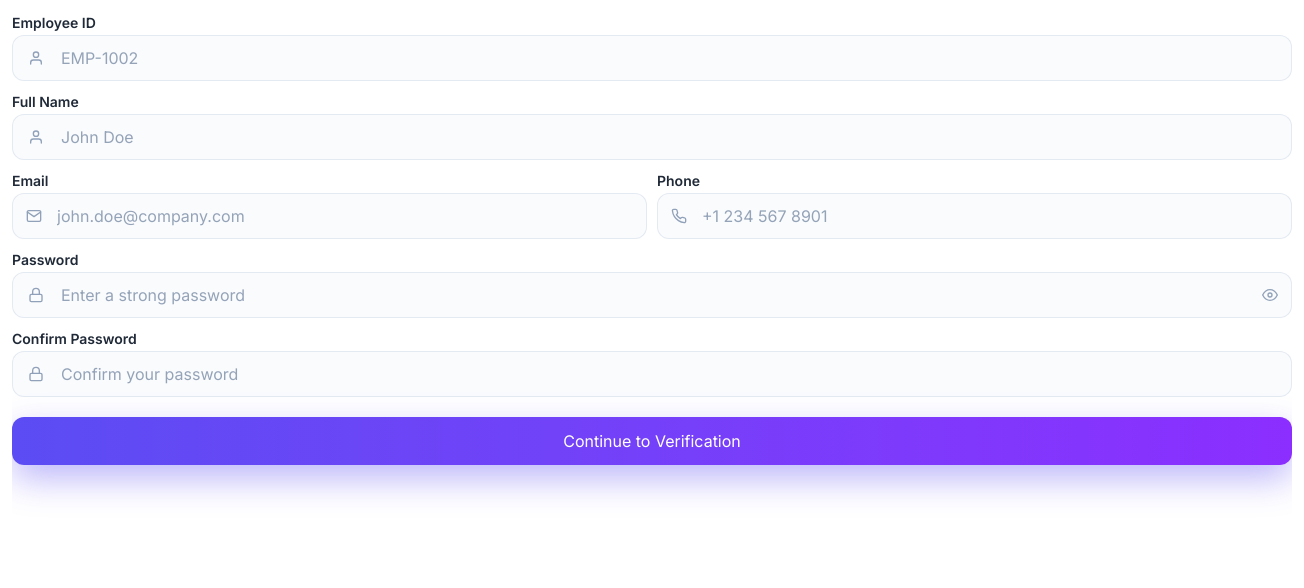
it: RegisterForm › shows error for name shorter than 2 characters
Type "EMP001" into the field labelled "Employee ID". click: (652, 58)
box: [12,35,1292,81]
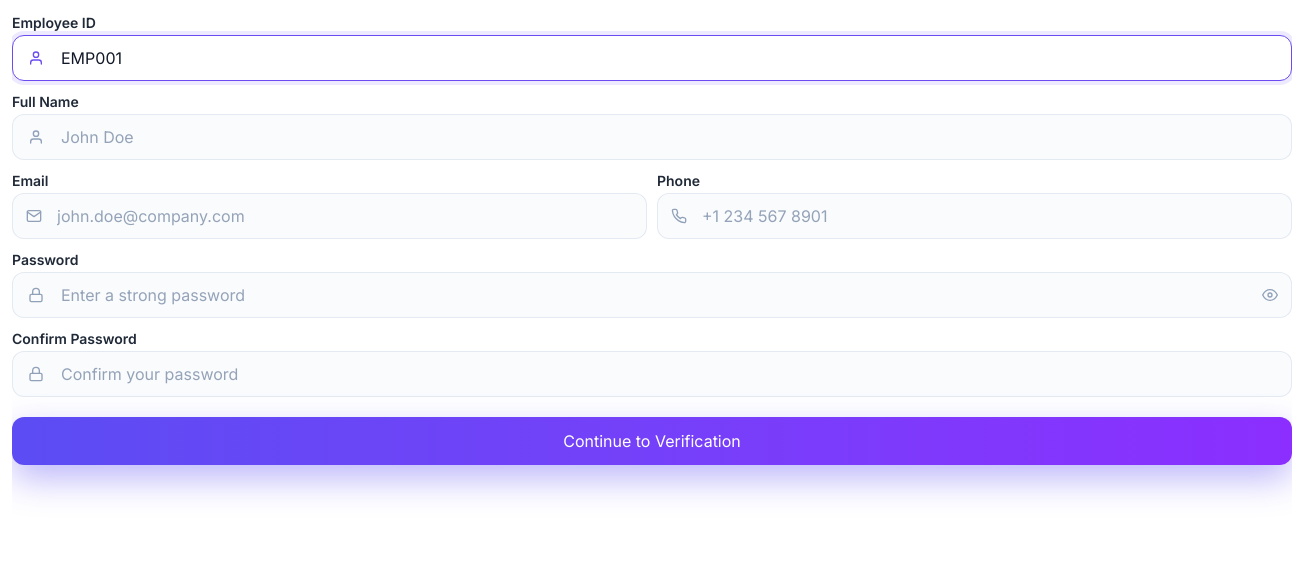
Type "A" into the field labelled "Full Name". click: (652, 137)
box: [12,114,1292,160]
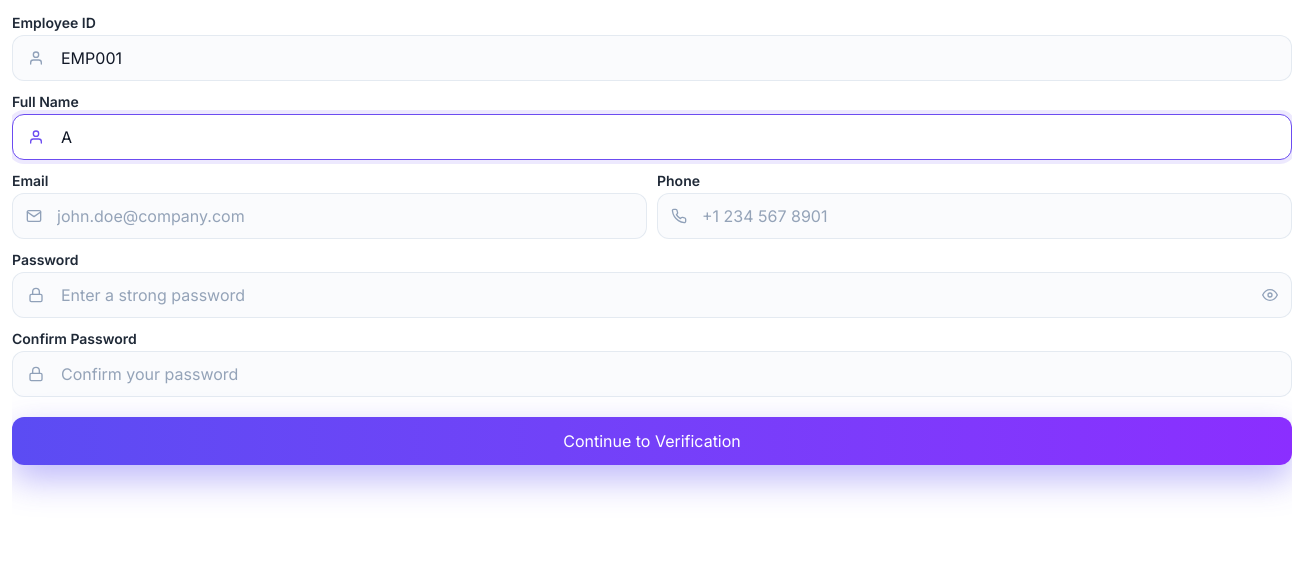
Click the button "Continue to Verification". click: (652, 441)
box: [12,417,1292,465]
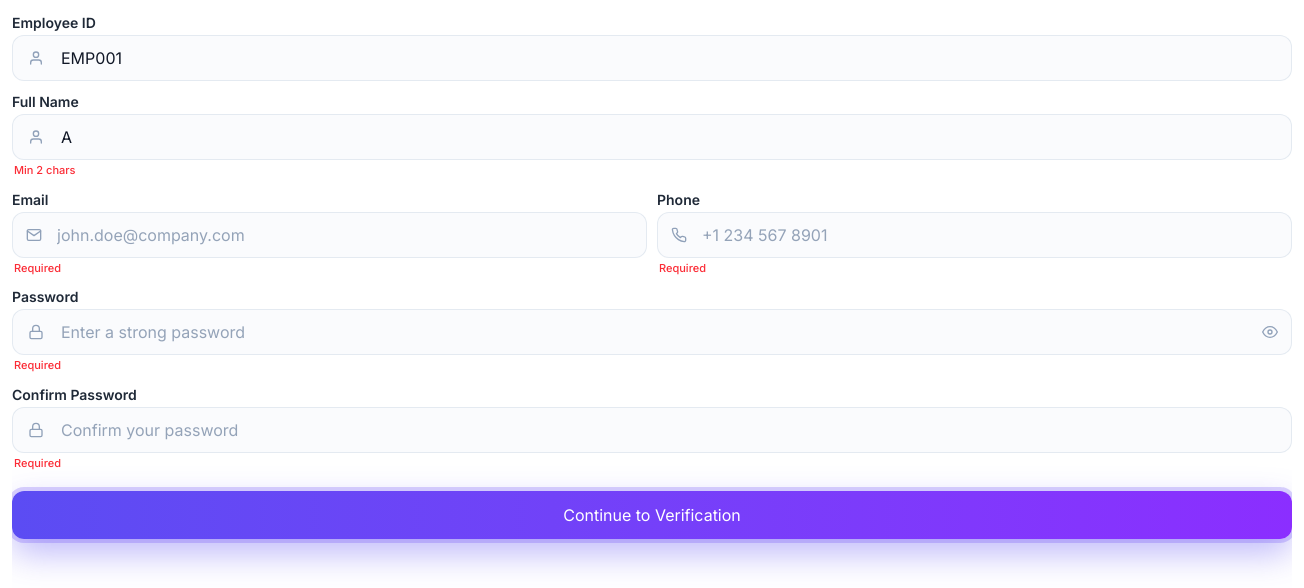
Expected: the text "Min 2 chars" is shown, [14,163,76,177]
